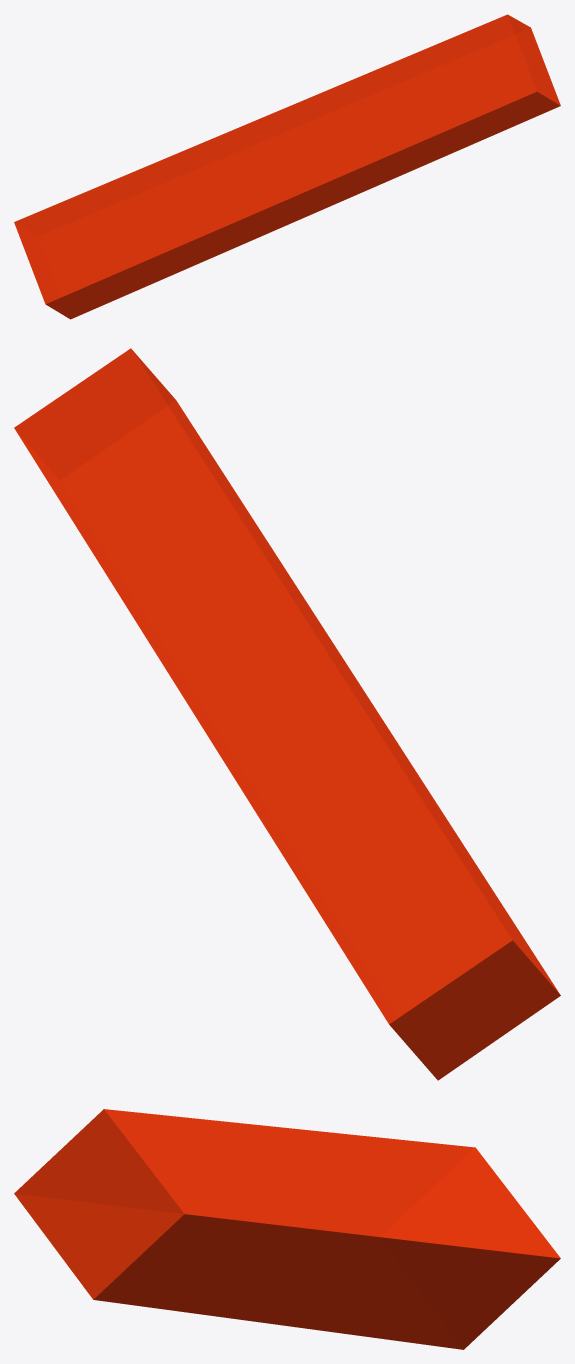
File: Event_421364160_EBrechit_5.fbx
The picture shows the model from 3 angles, top to bottom: view 1: azimuth 30°, elevation 25°; view 2: azimuth 150°, elevation 25°; view 3: azimuth 270°, elevation 25°; orthographic projection. The views are drawn at different scales.
Visible parts, largest first — view 1: Model; view 2: Model; view 3: Model.
Boxes of the visible parts, <box> form: Model: <box>14,14,560,319</box>; Model: <box>14,348,560,1080</box>; Model: <box>14,1109,560,1349</box>.
Bounding box in the file's own units: 0.316 × 0.225 × 0.2335.
